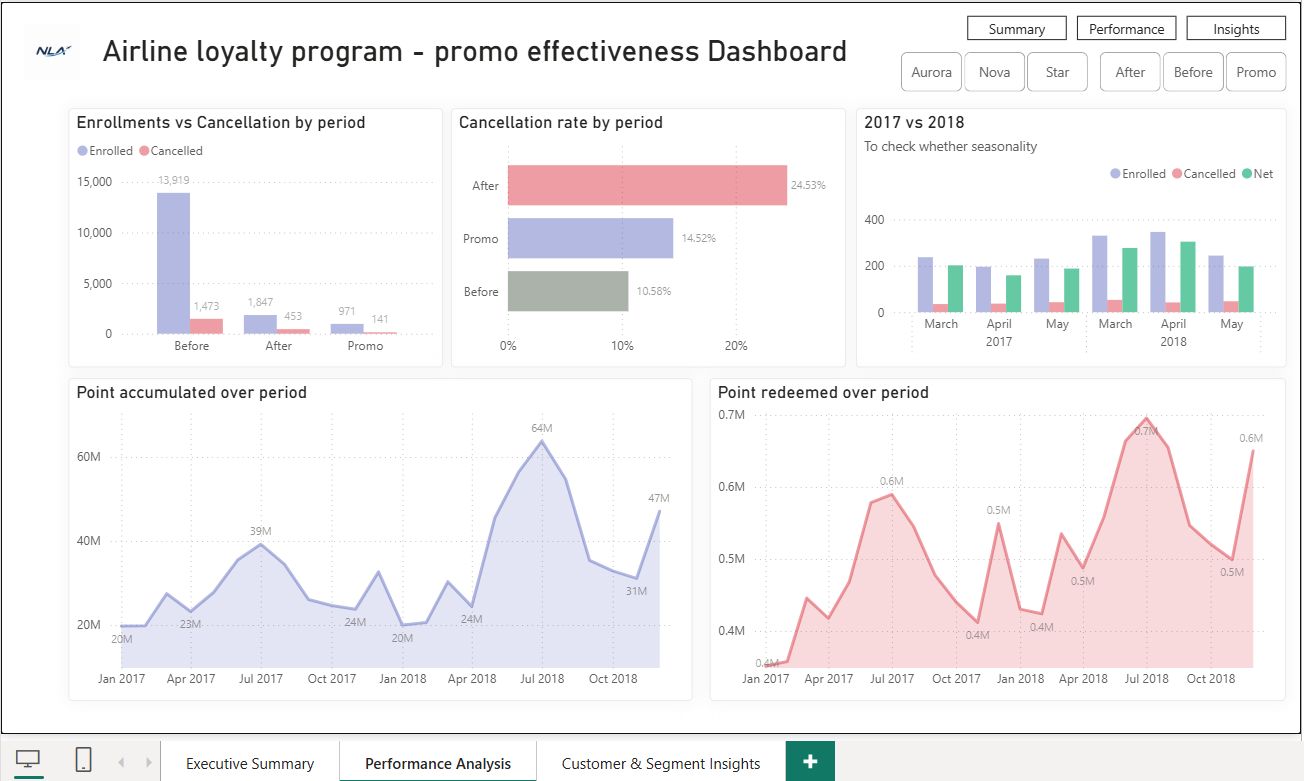

The dashboard page shown, as its layout file describes it:
{"tool":"powerbi","page":{"name":"Performance Analysis","canvas":[1280,720],"ordinal":1},"visuals":[{"type":"image","box":[0,20.6,101.6,55.6],"z":0},{"type":"textbox","box":[94.5,25.5,772.7,47.3],"z":1000},{"type":"clusteredColumnChart","title":"Enrollments vs Cancellation by period ","fields":{"Category":["Calendar.period type"],"Y":["metrics.total enrollment","metrics.total cancellation"]},"box":[66.2,105,368.8,255],"z":2000},{"type":"barChart","title":"Cancellation rate by period ","fields":{"Category":["Calendar.period type"],"Y":["metrics.Cancellation rate"]},"box":[442.5,105,388.8,255],"z":3000},{"type":"lineClusteredColumnComboChart","title":"2017 vs 2018","fields":{"Category":["Calendar.Date.Variation.Date Hierarchy.Year","Calendar.Date.Variation.Date Hierarchy.Month"],"Y":["metrics.total enrollment","metrics.total cancellation","metrics.net members"]},"box":[841.2,105,423.8,255],"z":4000},{"type":"lineChart","title":"Point accumulated over period","fields":{"Category":["Calendar.Date.Variation.Date Hierarchy.Year","Calendar.Date.Variation.Date Hierarchy.Month"],"Y":["Sum(Customer Flight Activity.Points Accumulated)"]},"box":[66.4,370.4,614.1,317.3],"z":5000},{"type":"lineChart","title":"Point redeemed over period","fields":{"Category":["Calendar.Date.Variation.Date Hierarchy.Year","Calendar.Date.Variation.Date Hierarchy.Month"],"Y":["Sum(Customer Flight Activity.Points Redeemed)"]},"box":[697.3,370.4,567,317.3],"z":6000},{"type":"bookmarkNavigator","box":[951.4,13.5,316.3,24.6],"z":7000},{"type":"advancedSlicerVisual","fields":{"Values":["Calendar.period type"]},"box":[1081.8,49.2,184.6,39.4],"z":8000},{"type":"advancedSlicerVisual","fields":{"Values":["Customer Loyalty History.Loyalty Card"]},"box":[886.2,49.2,184.6,39.4],"z":9000}]}

Visuals, with their boxes on the page's 1280x720 design canvas (x1, y1, x2, y2). These are canvas units, not pixel positions in the 1304x781 screenshot, which may show the page scaled, cropped or inside an application window:
image: {"x1": 0, "y1": 21, "x2": 102, "y2": 76}
textbox: {"x1": 94, "y1": 26, "x2": 867, "y2": 73}
"Enrollments vs Cancellation by period " clusteredColumnChart: {"x1": 66, "y1": 105, "x2": 435, "y2": 360}
"Cancellation rate by period " barChart: {"x1": 442, "y1": 105, "x2": 831, "y2": 360}
"2017 vs 2018" lineClusteredColumnComboChart: {"x1": 841, "y1": 105, "x2": 1265, "y2": 360}
"Point accumulated over period" lineChart: {"x1": 66, "y1": 370, "x2": 680, "y2": 688}
"Point redeemed over period" lineChart: {"x1": 697, "y1": 370, "x2": 1264, "y2": 688}
bookmarkNavigator: {"x1": 951, "y1": 14, "x2": 1268, "y2": 38}
advancedSlicerVisual - Calendar.period type: {"x1": 1082, "y1": 49, "x2": 1266, "y2": 89}
advancedSlicerVisual - Customer Loyalty History.Loyalty Card: {"x1": 886, "y1": 49, "x2": 1071, "y2": 89}
